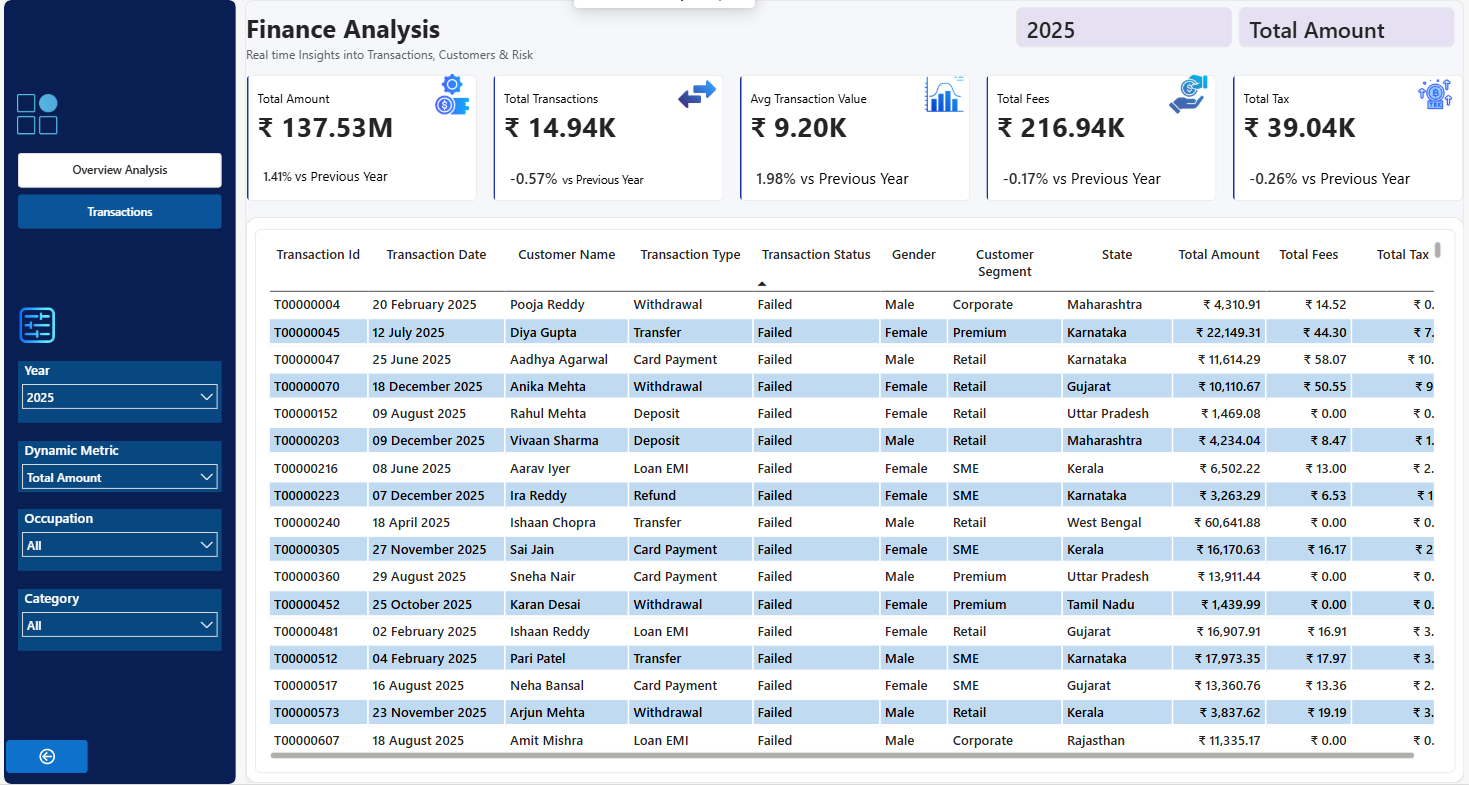

What the dashboard file says about the page in this screenshot:
{"tool":"powerbi","page":{"name":"Transactions","canvas":[1800,950],"ordinal":1},"visuals":[{"type":"shape","box":[18.2,0,281.4,950.9],"z":0},{"type":"shape","box":[310.5,0,1478.6,949.7],"z":1000},{"type":"image","box":[21.1,8.7,259.3,49.6],"z":2000},{"type":"cardVisual","fields":{"Data":["finance_transactions.Dashboard Title"]},"box":[299.6,0,423.3,89.8],"z":3000},{"type":"cardVisual","fields":{"Data":["finance_transactions.Total Amount","finance_transactions.Total Transactions","finance_transactions.Avg Transaction Value","finance_transactions.Total Fees","finance_transactions.Total Tax"]},"box":[311.7,89.8,1477.4,155],"z":4000},{"type":"image","box":[537.3,89.8,48.5,48.5],"z":6000},{"type":"image","box":[834.5,89.8,48.5,48.5],"z":7000},{"type":"image","box":[1430.1,89.8,48.5,48.5],"z":8000},{"type":"image","box":[1134.1,89.8,48.5,48.5],"z":9000},{"type":"image","box":[1729.6,89.8,48.5,48.5],"z":10000},{"type":"shape","box":[311.7,263.2,1477.4,686.5],"z":12000},{"type":"cardVisual","fields":{"Data":["finance_transactions.Selected Year","finance_transactions.Selected Dynamic Measure"]},"box":[1245.7,8.5,532.5,49.7],"z":14000},{"type":"tableEx","fields":{"Values":["finance_transactions.transaction_id","finance_transactions.transaction_date","customers.customer_name","finance_transactions.transaction_type","finance_transactions.transaction_status","customers.gender","customers.customer_segment","customers.state","finance_transactions.Total Amount","finance_transactions.Total Fees","finance_transactions.Total Tax"]},"box":[322.6,277.8,1455.5,659.8],"z":14001},{"type":"actionButton","box":[20.6,897.6,99.5,40],"z":14002},{"type":"pageNavigator","box":[35.2,185.6,247.4,92.2],"z":14003},{"type":"slicer","fields":{"Values":["Calendar Table.Year"]},"box":[35.2,437.9,247.4,75.2],"z":14004},{"type":"slicer","fields":{"Values":["Dynamic Metric.Dynamic Metric"]},"box":[35.2,534.5,247.4,61.9],"z":14005},{"type":"slicer","fields":{"Values":["customers.occupation"]},"box":[35.2,617.8,247.4,75.2],"z":14006},{"type":"slicer","fields":{"Values":["finance_transactions.merchant_category"]},"box":[35.2,714.4,247.4,75.2],"z":14007},{"type":"image","box":[34,114,48.5,48.5],"z":14008},{"type":"image","box":[34,369.9,48.5,48.5],"z":14009}]}

Visuals, with their boxes on the page's 1800x950 design canvas (x1, y1, x2, y2). These are canvas units, not pixel positions in the 1469x785 screenshot, which may show the page scaled, cropped or inside an application window:
shape: <bbox>18, 0, 300, 951</bbox>
shape: <bbox>310, 0, 1789, 950</bbox>
image: <bbox>21, 9, 280, 58</bbox>
cardVisual - finance_transactions.Dashboard Title: <bbox>300, 0, 723, 90</bbox>
cardVisual - finance_transactions.Total Amount x finance_transactions.Total Transactions: <bbox>312, 90, 1789, 245</bbox>
image: <bbox>537, 90, 586, 138</bbox>
image: <bbox>834, 90, 883, 138</bbox>
image: <bbox>1430, 90, 1479, 138</bbox>
image: <bbox>1134, 90, 1183, 138</bbox>
image: <bbox>1730, 90, 1778, 138</bbox>
shape: <bbox>312, 263, 1789, 950</bbox>
cardVisual - finance_transactions.Selected Year x finance_transactions.Selected Dynamic Measure: <bbox>1246, 8, 1778, 58</bbox>
tableEx - finance_transactions.transaction_id x finance_transactions.transaction_date: <bbox>323, 278, 1778, 938</bbox>
actionButton: <bbox>21, 898, 120, 938</bbox>
pageNavigator: <bbox>35, 186, 283, 278</bbox>
slicer - Calendar Table.Year: <bbox>35, 438, 283, 513</bbox>
slicer - Dynamic Metric.Dynamic Metric: <bbox>35, 534, 283, 596</bbox>
slicer - customers.occupation: <bbox>35, 618, 283, 693</bbox>
slicer - finance_transactions.merchant_category: <bbox>35, 714, 283, 790</bbox>
image: <bbox>34, 114, 82, 162</bbox>
image: <bbox>34, 370, 82, 418</bbox>
